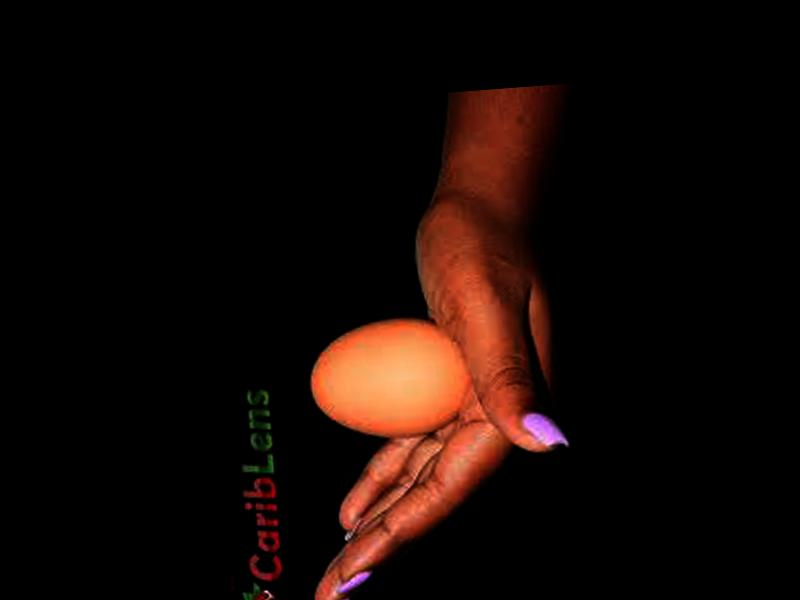Eggs: (304, 312, 471, 445)
